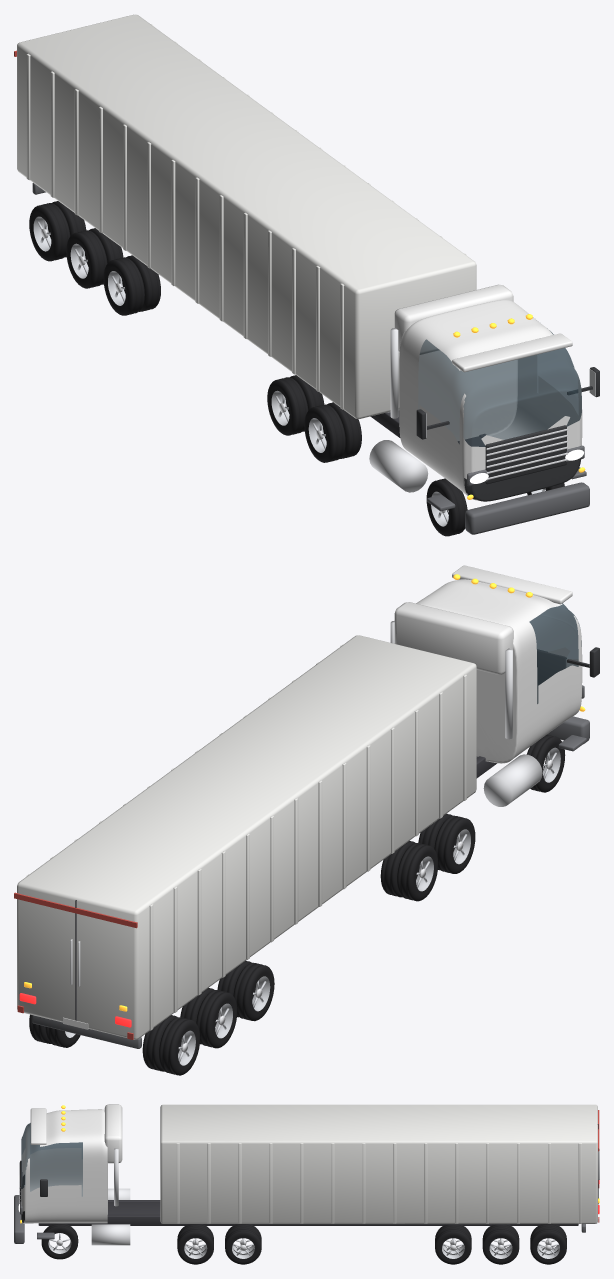
Rendered from camion.glb.
3 views of the same model, one above another, from view 1: azimuth 30°, elevation 25°; view 2: azimuth 150°, elevation 25°; view 3: azimuth 270°, elevation 25° (orthographic). The views are drawn at different scales.
Parts seen in each view (by area): view 1: remorque, cabine, pare_chocs, calandre, deflecteur, roue_m.018, roue_m.002, reservoir, roue_m.014, roue_m.006, roue_m.010, pare_soleil (+4 smaller); view 2: remorque, cabine, deflecteur, reservoir, roue_m.006, roue_m.010, roue_m.002, roue_m.014, roue_m.018, pare_soleil, roue_camion_mesh, pare_cycliste (+6 smaller); view 3: remorque, cabine, longeron.001, deflecteur, roue_m.012, roue_m.020, roue_m.008, roue_m.004, roue_m.016, roue_m, reservoir.001, chassis (+23 smaller).
Part boxes in pixels (box(x1,y1,x2,y2)): remorque: box(17, 14, 476, 419); cabine: box(399, 300, 582, 501); pare_chocs: box(465, 482, 589, 534); calandre: box(485, 425, 566, 484); deflecteur: box(394, 284, 513, 354); roue_m.018: box(103, 257, 144, 315); roue_m.002: box(304, 404, 345, 462); reservoir: box(369, 440, 428, 492); roue_m.014: box(66, 230, 107, 288); roue_m.006: box(267, 377, 308, 435); roue_m.010: box(29, 203, 70, 261); pare_soleil: box(452, 333, 572, 372); remorque: box(17, 635, 476, 1039); cabine: box(416, 579, 582, 763); deflecteur: box(394, 602, 513, 674); reservoir: box(483, 754, 542, 806); roue_m.006: box(397, 843, 438, 901); roue_m.010: box(159, 1017, 200, 1075); roue_m.002: box(434, 815, 475, 873); roue_m.014: box(196, 990, 237, 1048); roue_m.018: box(233, 962, 274, 1021); pare_soleil: box(452, 565, 572, 604); roue_camion_mesh: box(526, 734, 565, 792); pare_cycliste: box(32, 1015, 141, 1048); remorque: box(160, 1104, 597, 1223); cabine: box(21, 1109, 107, 1223); longeron.001: box(38, 1214, 578, 1225); deflecteur: box(104, 1104, 122, 1163); roue_m.012: box(530, 1228, 566, 1264); roue_m.020: box(435, 1228, 471, 1264); roue_m.008: box(225, 1228, 261, 1264); roue_m.004: box(177, 1228, 213, 1264); roue_m.016: box(482, 1228, 519, 1264); roue_m: box(41, 1223, 78, 1259); reservoir.001: box(91, 1224, 130, 1245); chassis: box(108, 1202, 160, 1214).
Bounding box in the file's own units: 3.74 × 3.93 × 16.6.
